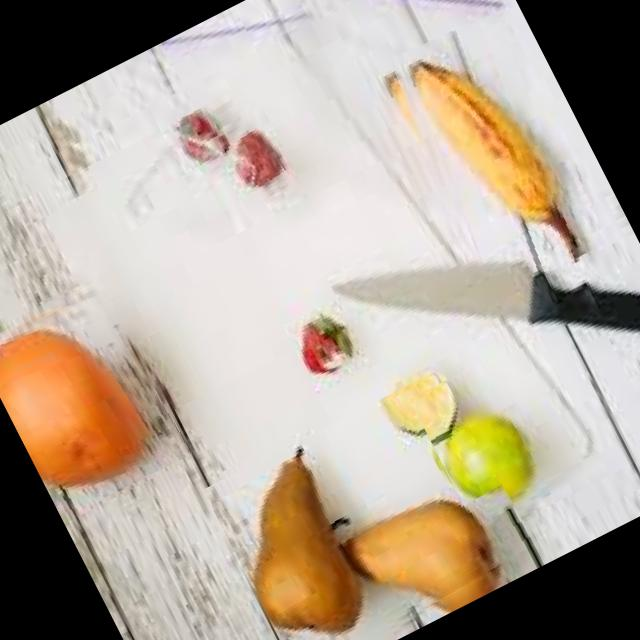Organic: (202, 364, 543, 640), (364, 2, 618, 304), (0, 273, 194, 518), (409, 354, 549, 505), (169, 86, 295, 226), (284, 305, 372, 381)
